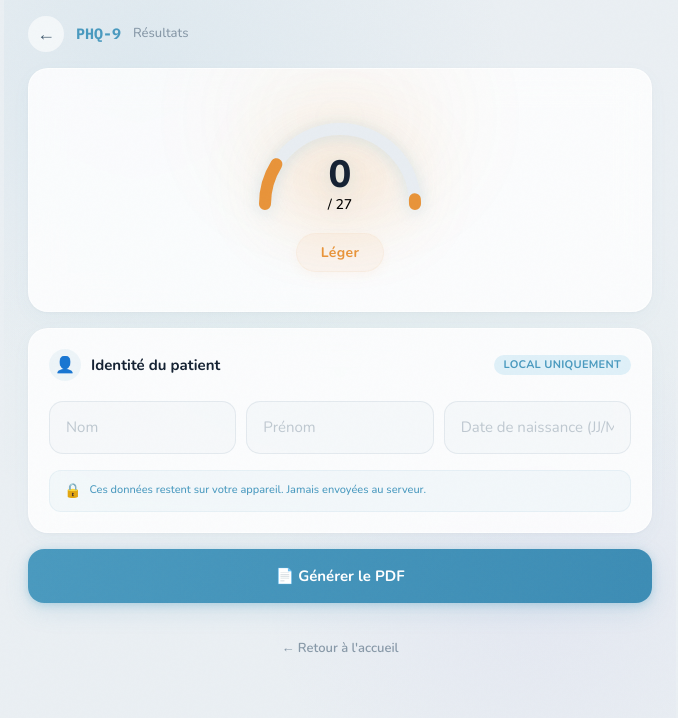
Scenario: ResultScreen › shows PDF preview after clicking generate
Type "Dupont" into the field with placeholder "Nom" at (143, 427), box [49,401,236,454]
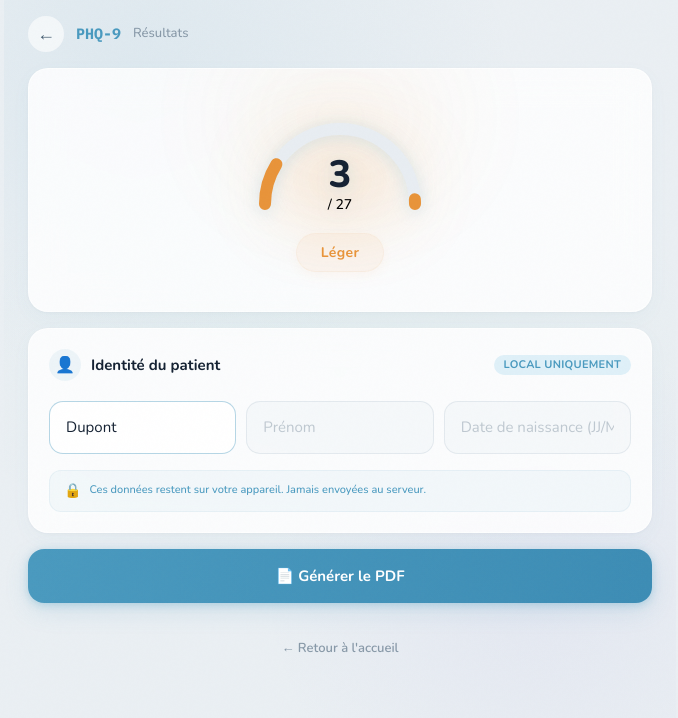
Click the button "📄 Générer le PDF" at (340, 576), box [28,548,652,603]
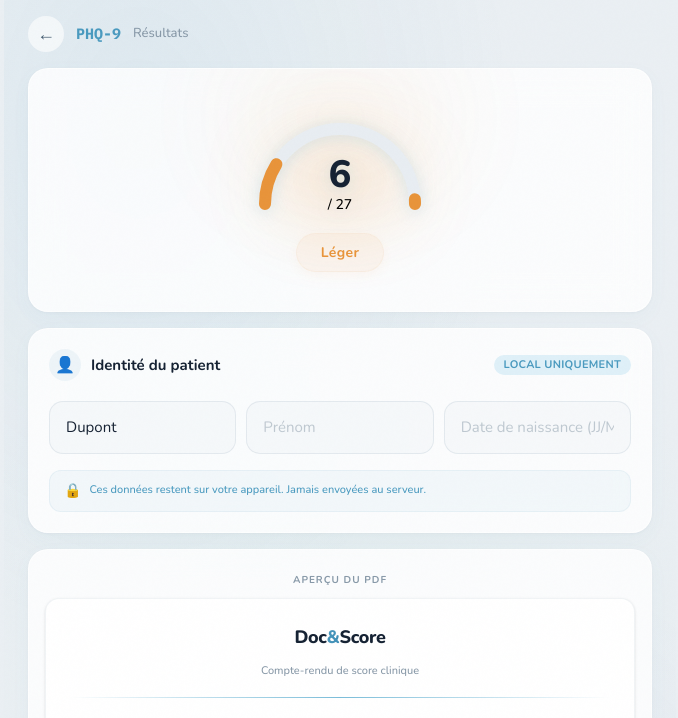
Check: the text "Aperçu du PDF" is shown, box [293,572,387,586]
